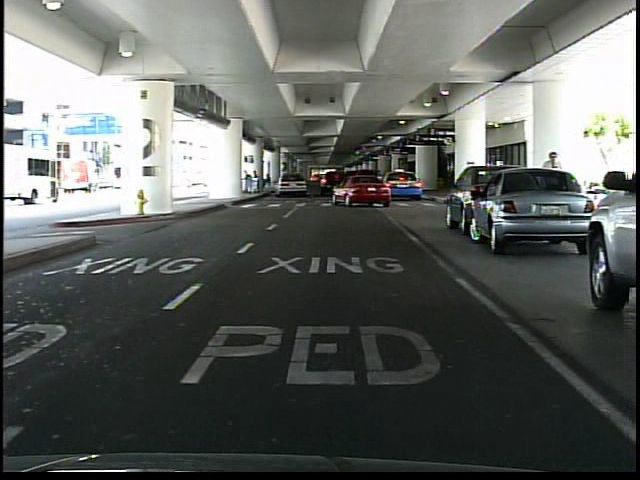person: (541, 149, 567, 235)
